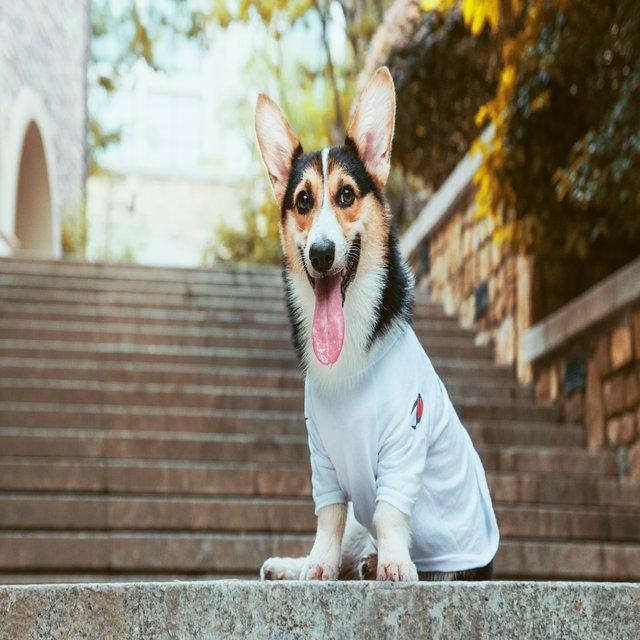corgi: (252, 64, 500, 582)
